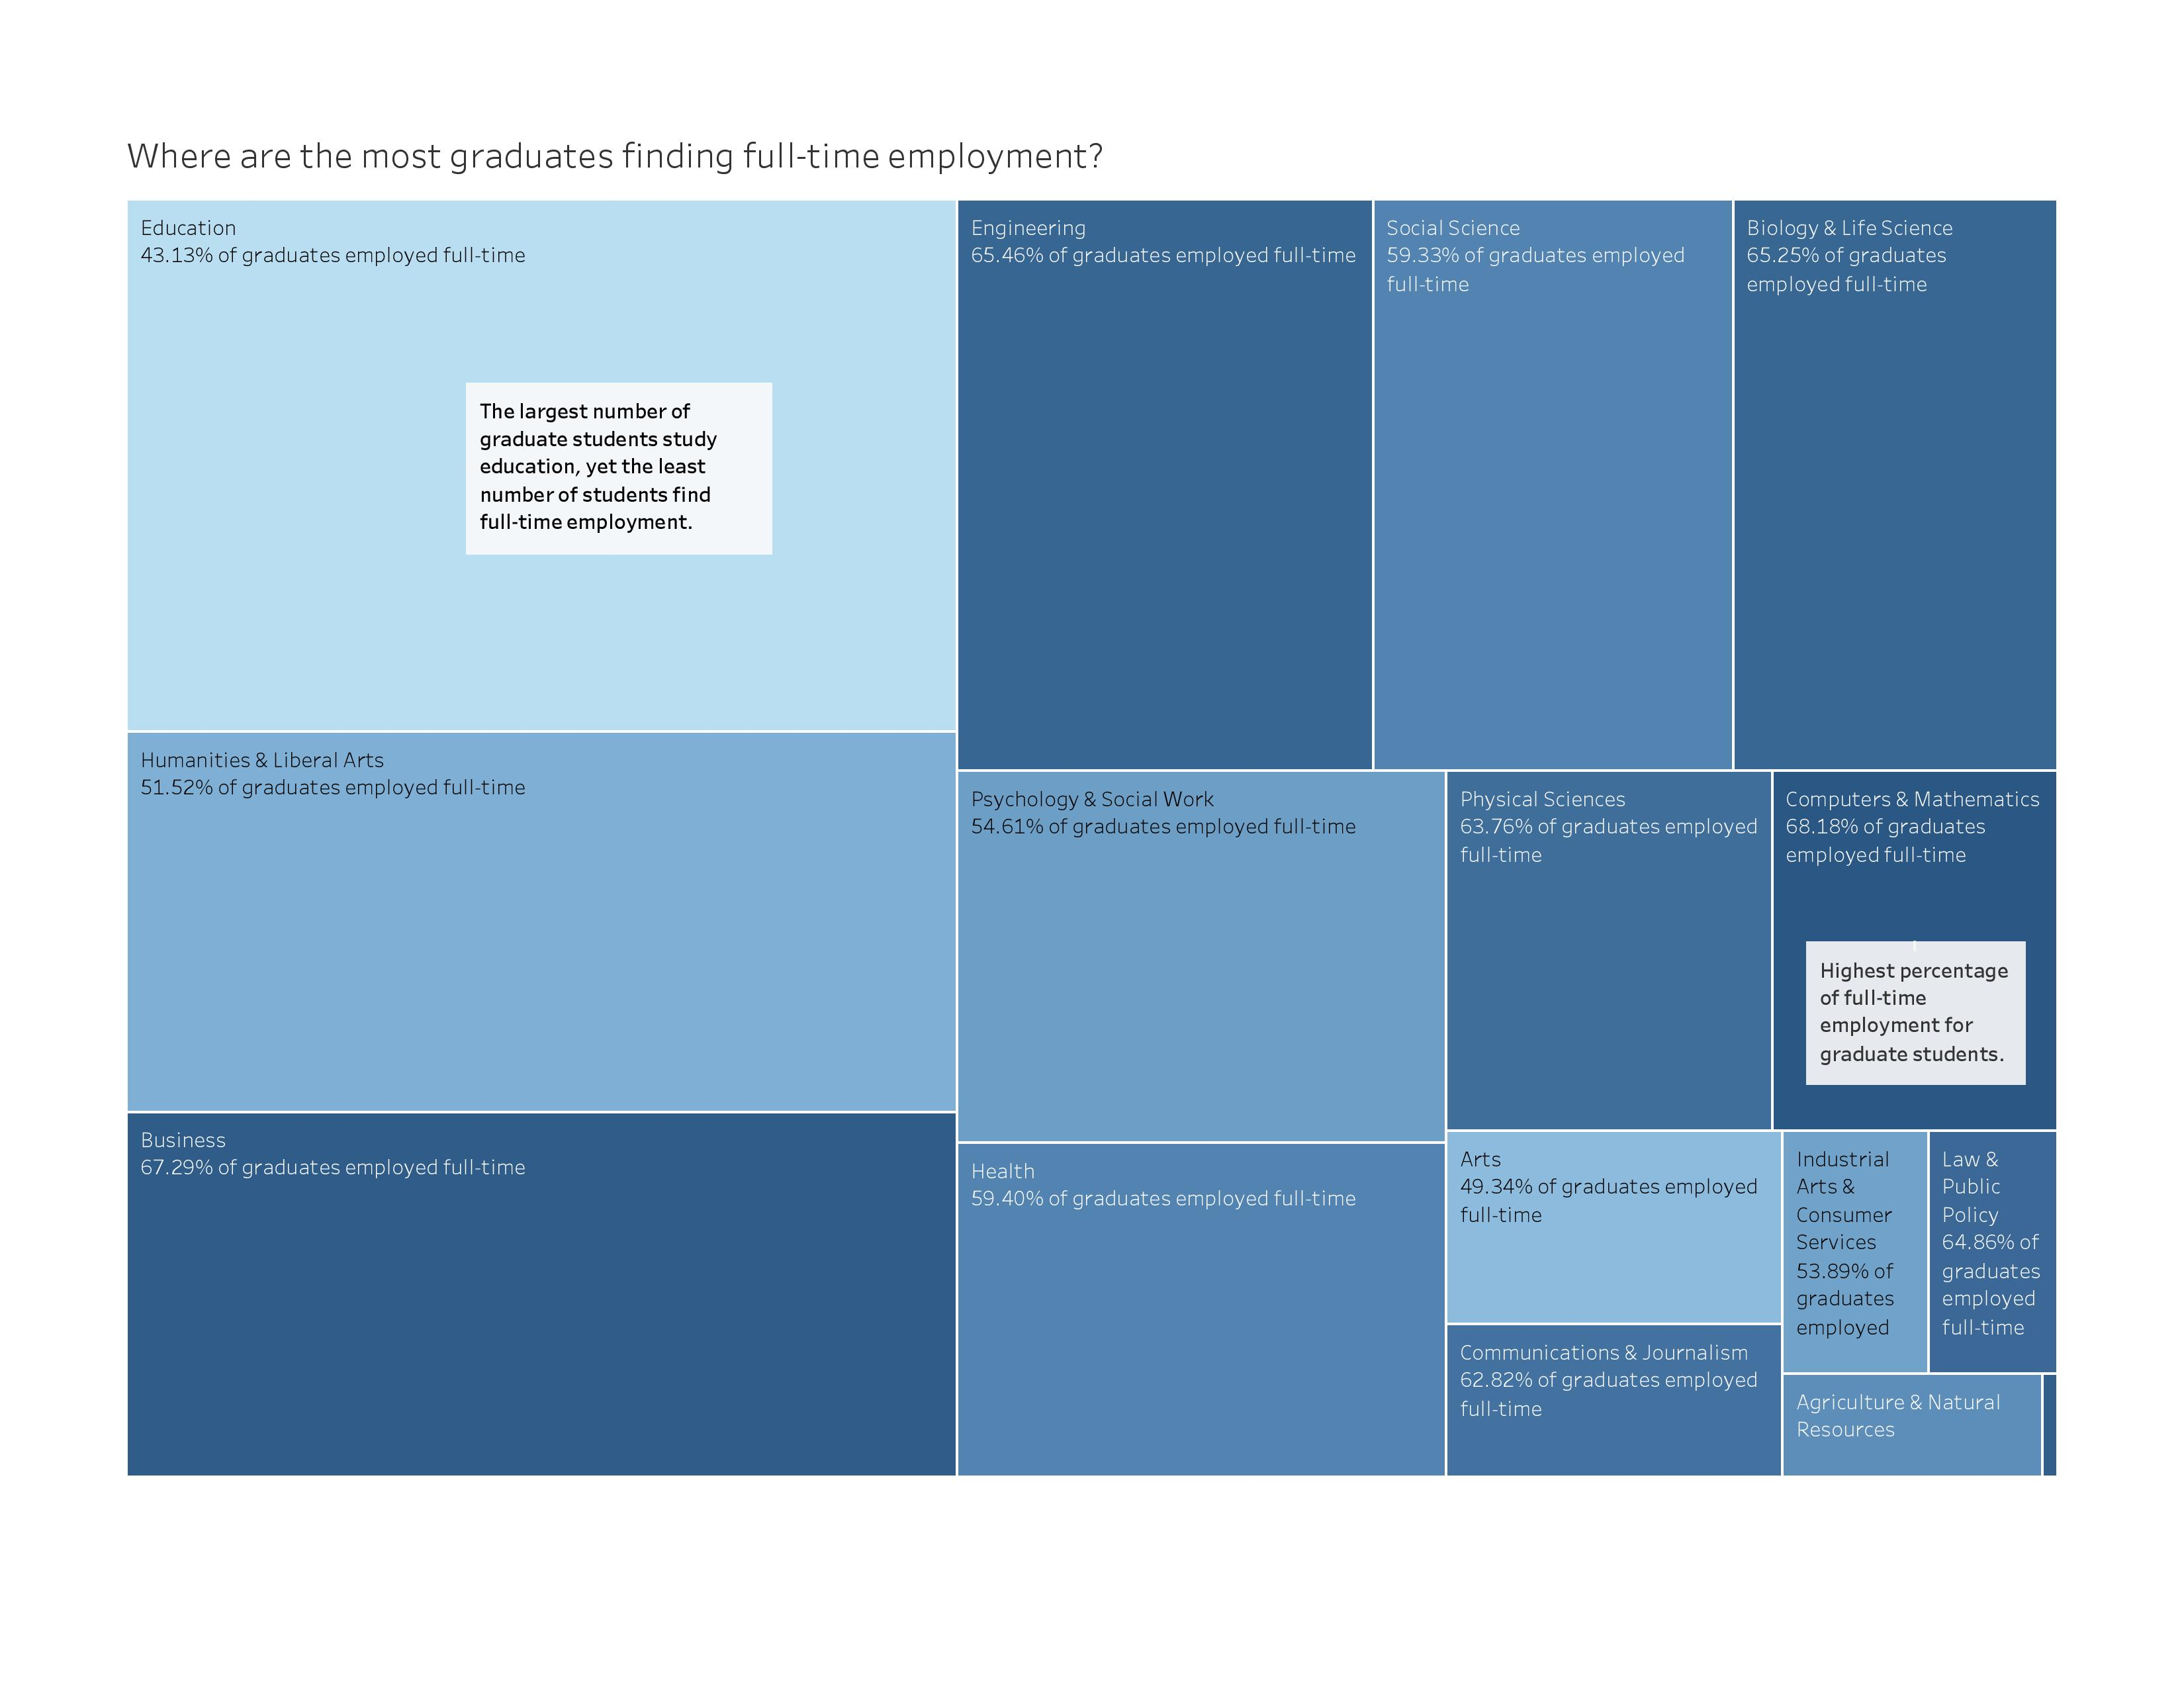

Layout of this report page (visuals, bound fields, positions):
{"tool":"tableau","page":{"name":"Treemap","canvas":[1000,1000],"units":"permille","ordinal":15},"visuals":[{"type":"worksheet","title":"Fulltime Treemap","mark":"Automatic","box":[4.7,9.6,990.6,980.9]}]}

Visuals, with their boxes on the dashboard's canvas, which has no fixed pixel size, in thousandths of its width and height (x1, y1, x2, y2). These are canvas units, not pixel positions in the 2184x1688 screenshot, which may show the page scaled, cropped or inside an application window:
"Fulltime Treemap" worksheet: x1=5 y1=10 x2=995 y2=990
